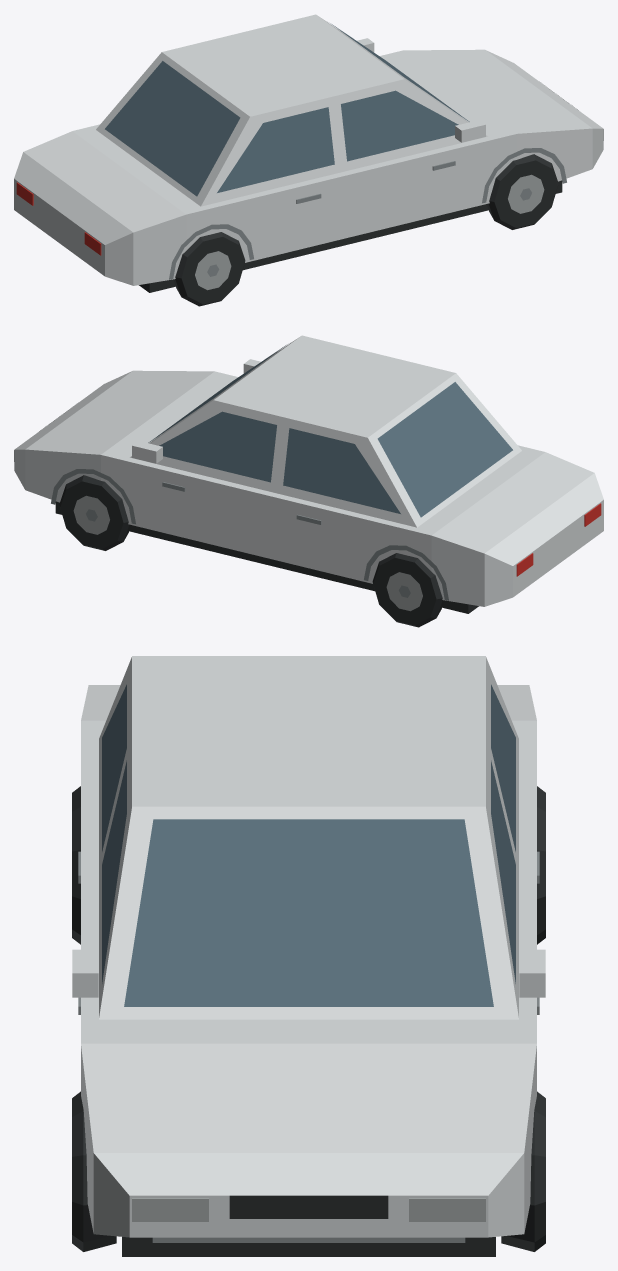
The model's file is SM_MPR3_Car_0_LOD1.fbx.
3 views of the same model, one above another, from view 1: azimuth 30°, elevation 25°; view 2: azimuth 150°, elevation 25°; view 3: azimuth 270°, elevation 25° (orthographic). The views are drawn at different scales.
Visible parts, largest first — view 1: SM_MPR3_Car_0_LOD1; view 2: SM_MPR3_Car_0_LOD1; view 3: SM_MPR3_Car_0_LOD1.
Boxes of the visible parts, box(x1,y1,x2,y2) form: SM_MPR3_Car_0_LOD1: box(14, 14, 603, 306); SM_MPR3_Car_0_LOD1: box(14, 335, 603, 627); SM_MPR3_Car_0_LOD1: box(72, 656, 545, 1256).
Size of the model in its own units: 452 by 185 by 142.
